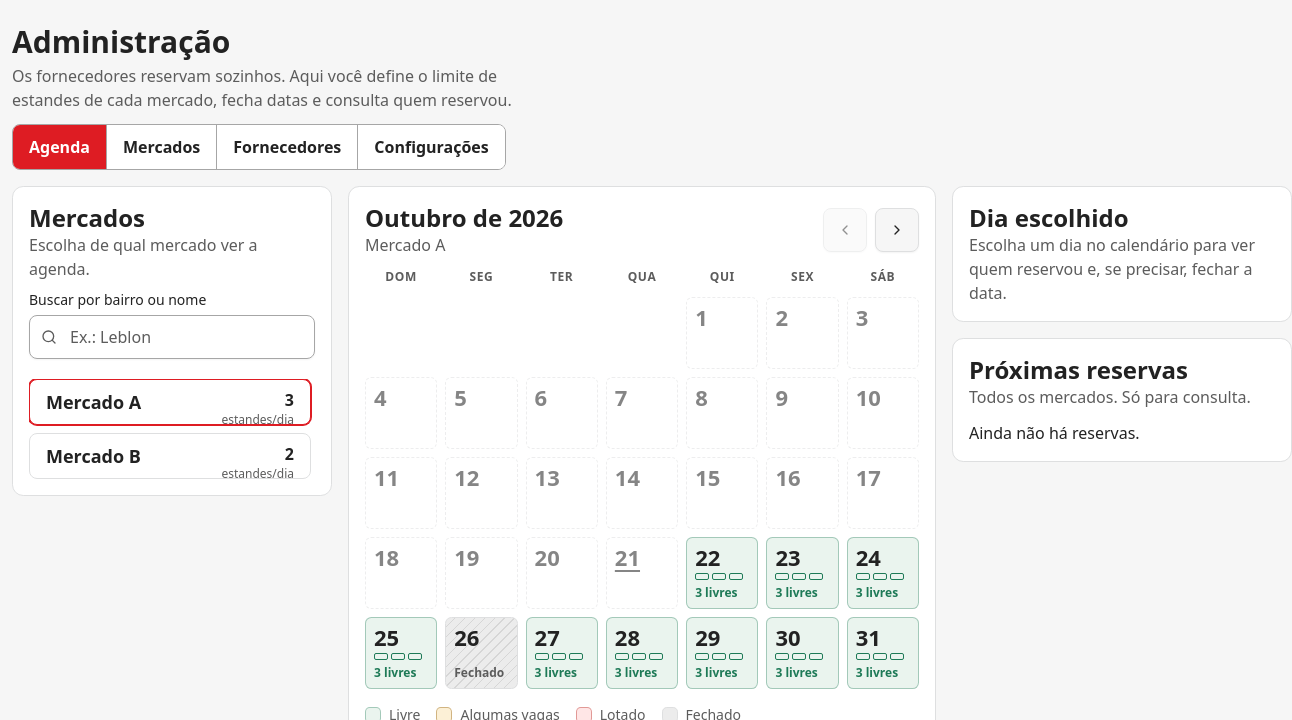
Test: Agenda › libera um dia fechado
Click the button with aria-label "Segunda-feira, 26 de outubro: fechado" at [481, 653], box x1=445 y1=617 x2=518 y2=689
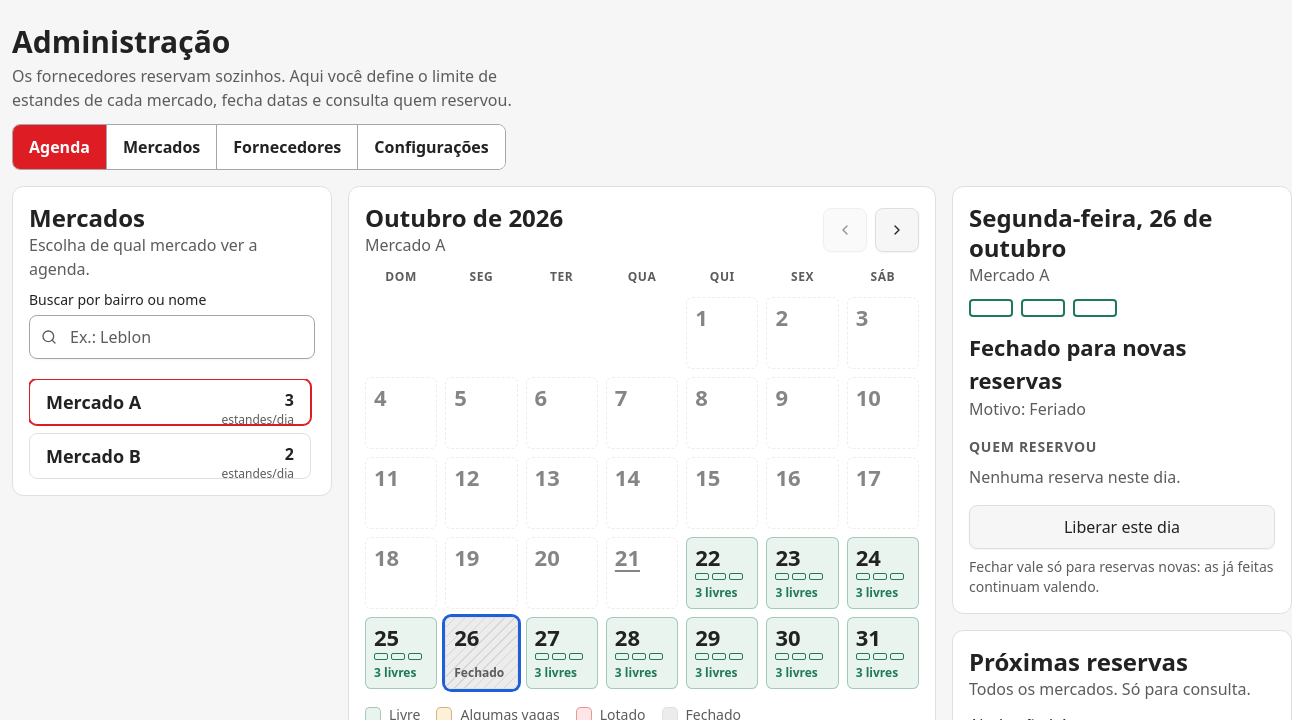
Click the button "Liberar este dia" at [1122, 527], box x1=969 y1=505 x2=1275 y2=549
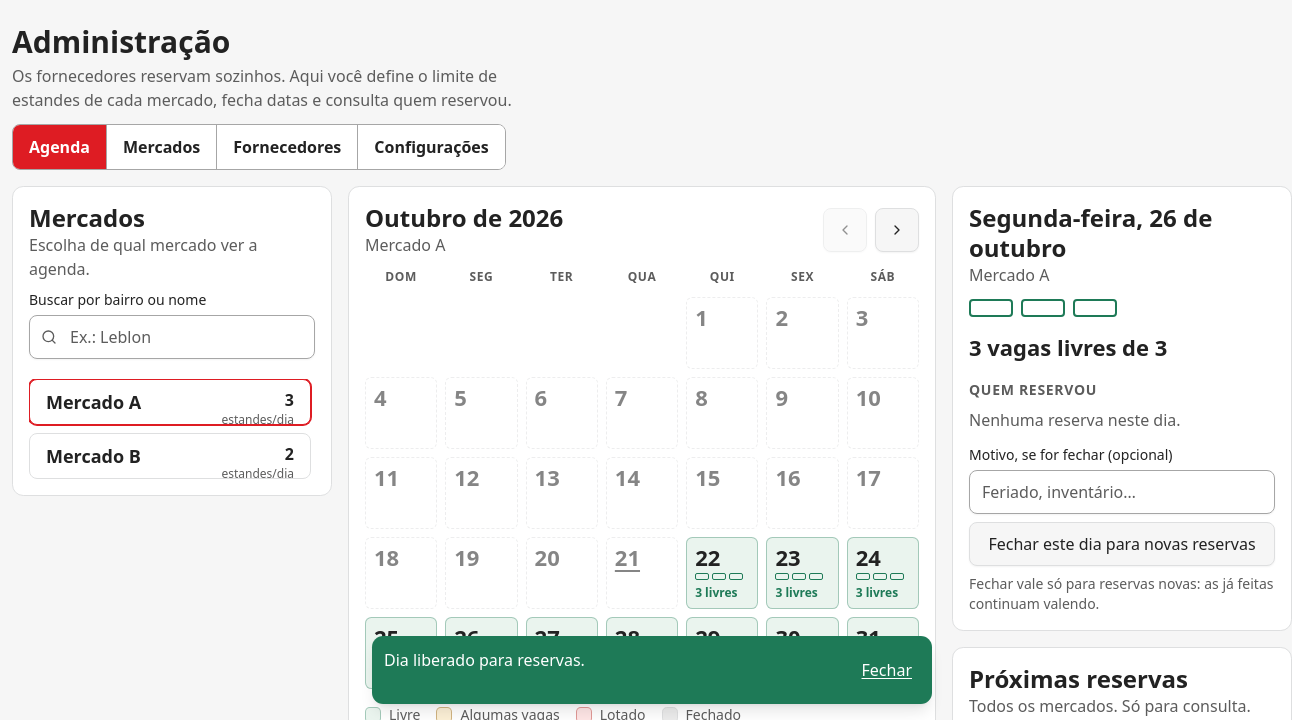
expect the message shows "Dia liberado para reservas.": met, box x1=384 y1=649 x2=585 y2=671
